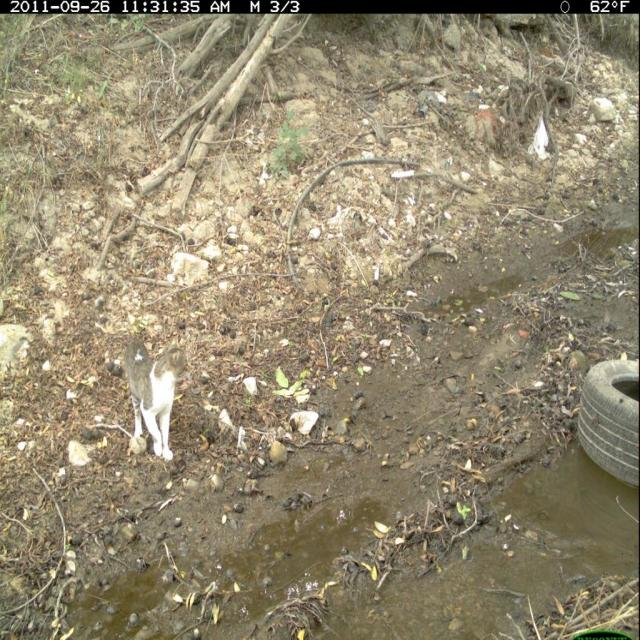cat: (122, 330, 196, 464)
